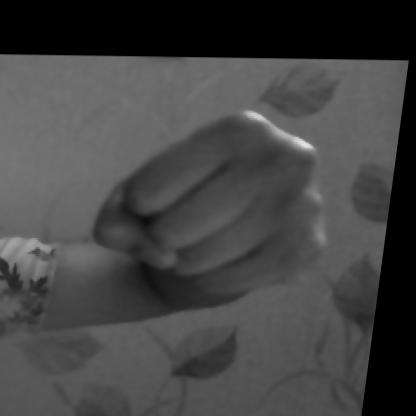fist: (51, 93, 354, 344)
